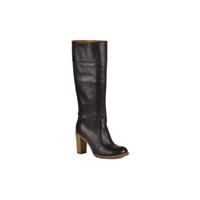shoe: (71, 40, 130, 159)
